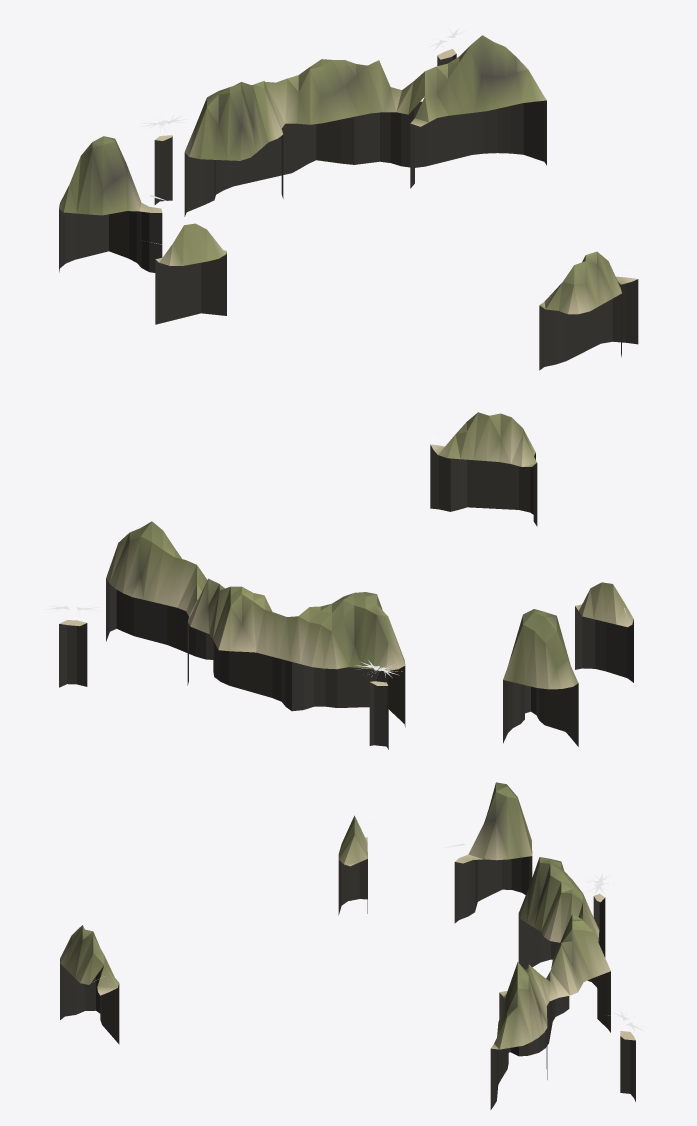
File: landmark-abrolhos-low.v1.glb
3 views of the same model, one above another, from view 1: azimuth 30°, elevation 25°; view 2: azimuth 150°, elevation 25°; view 3: azimuth 270°, elevation 25° (orthographic). The views are drawn at different scales.
Visible parts, largest first — view 1: island; view 2: island; view 3: island.
Boxes of the visible parts, <box> form: island: <box>59,35,638,370</box>; island: <box>59,412,633,749</box>; island: <box>60,782,635,1109</box>.
Size of the model in its own units: 22.91 by 5.27 by 25.41.
